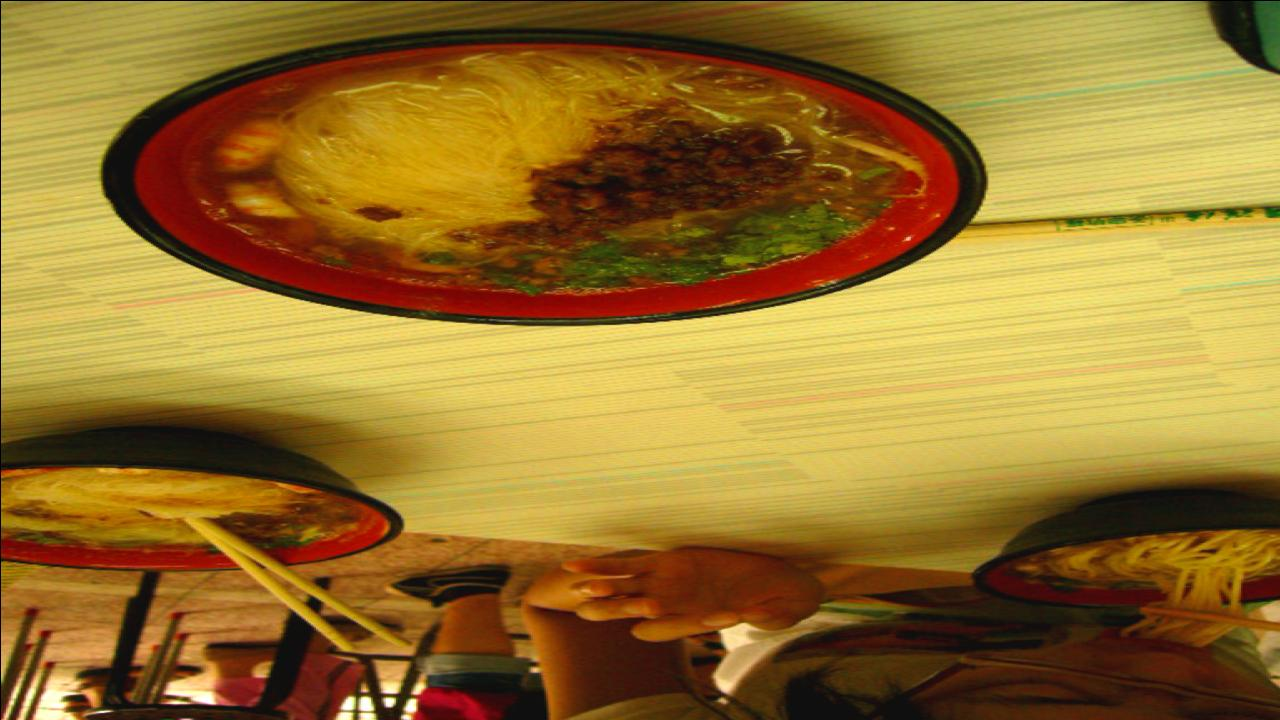chopstick: (185, 513, 406, 647), (966, 200, 1280, 239)
